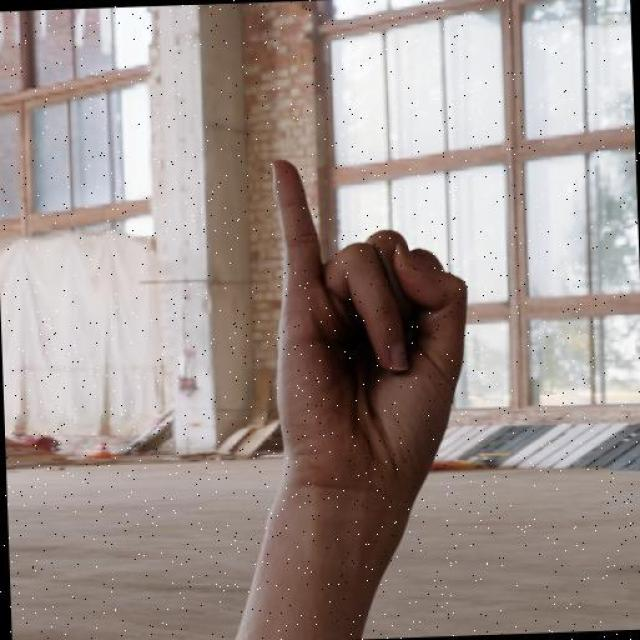I: (264, 148, 478, 512)
